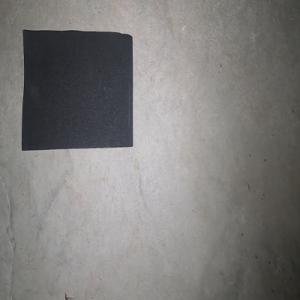PaintChip: (21, 29, 133, 150)
